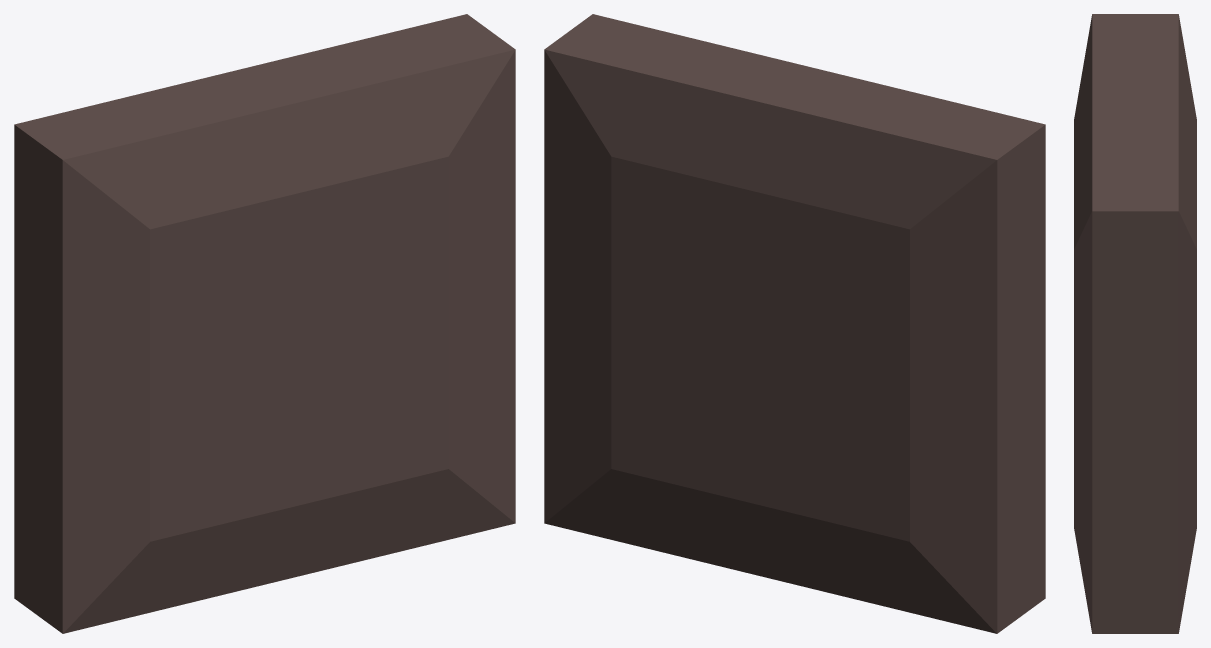
Rendered from beadBravery.fbx.
3 renders of one model, left to right at view 1: azimuth 30°, elevation 25°; view 2: azimuth 150°, elevation 25°; view 3: azimuth 270°, elevation 25°, orthographic. The views are drawn at different scales.
Parts seen in each view (by area): view 1: b01; view 2: b01; view 3: b01.
Part boxes in pixels (box(x1,y1,x2,y2)): b01: box(14, 14, 515, 633); b01: box(544, 14, 1045, 633); b01: box(1074, 14, 1196, 633).
Bounding box in the file's own units: 15.95 × 15.95 × 4.2.
